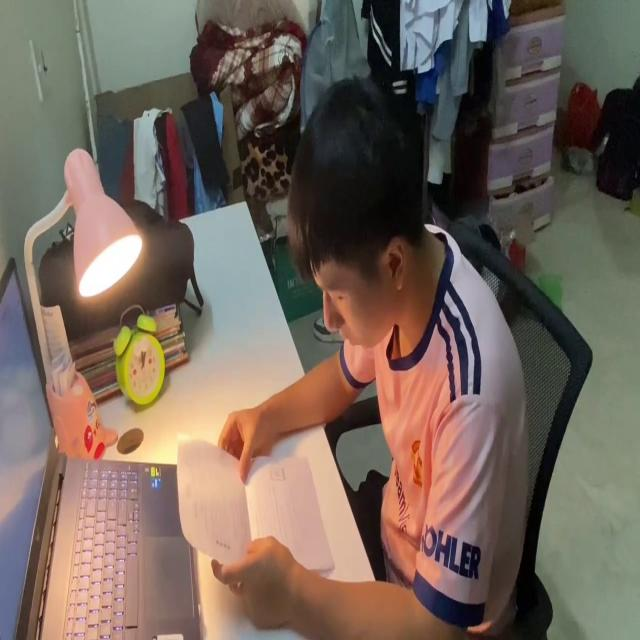book: (175, 430, 339, 583)
laptop: (0, 250, 200, 640)
student: (210, 66, 535, 640)
